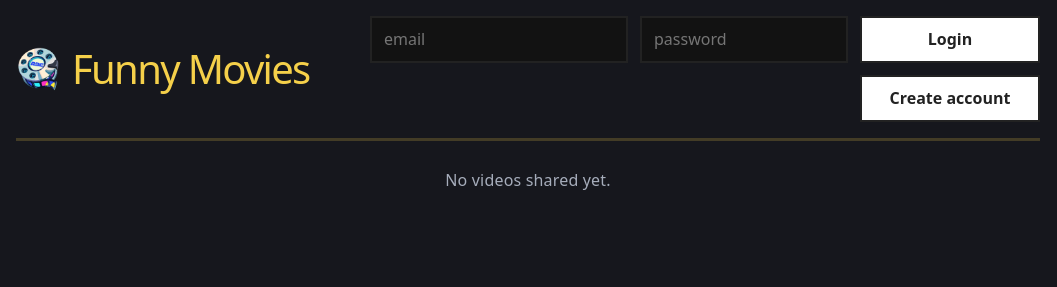
App › shows a mismatch error when register passwords do not match
Check: the text "No videos shared yet." is shown, box [445,169,611,191]
Click the button "Create account" at (950, 99), box [860,75,1040,122]
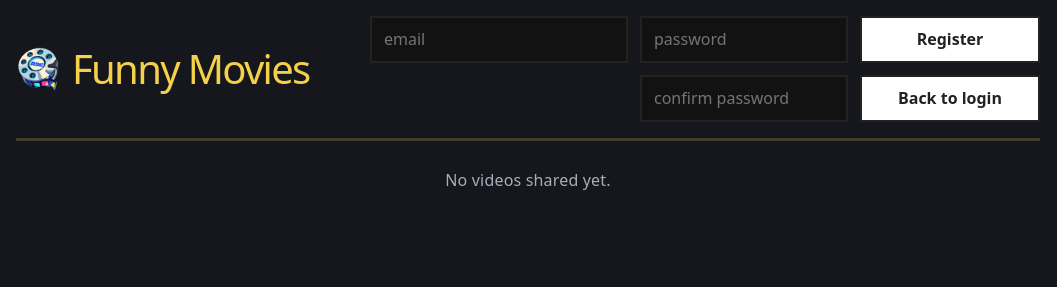
Type "movie@example.com" into the field with placeholder "email" at (499, 40), box [370,16,628,63]
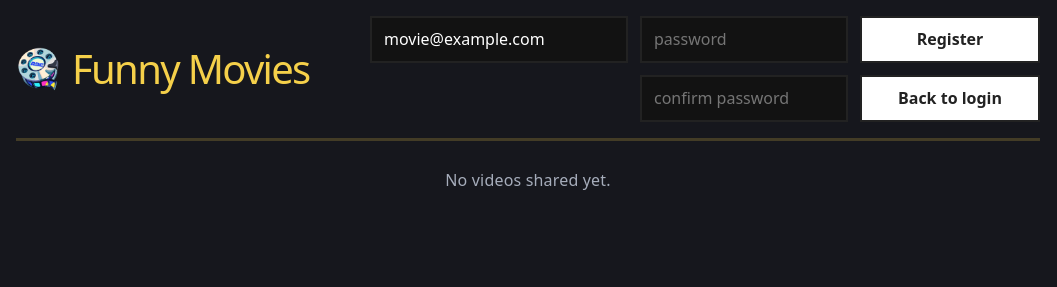
Type "password123" into the password field with placeholder "password" at (744, 40), box [640,16,848,63]
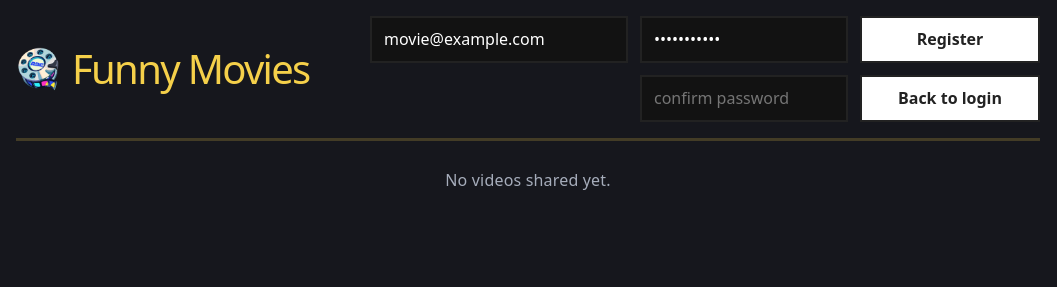
Type "different-password" into the password field with placeholder "confirm password" at (744, 99), box [640,75,848,122]
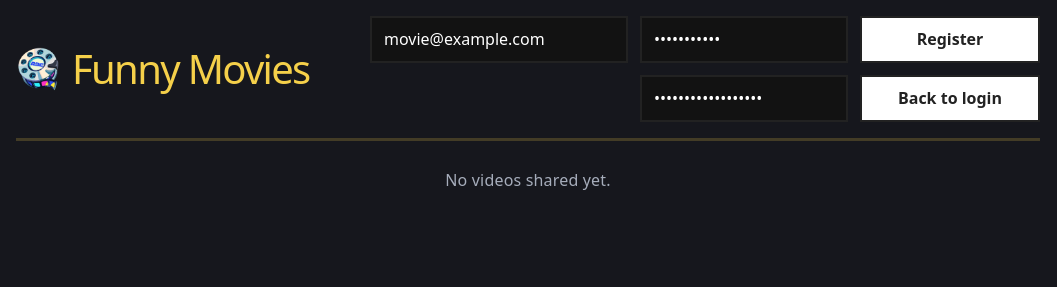
Click the button "Register" at (950, 40), box [860,16,1040,63]
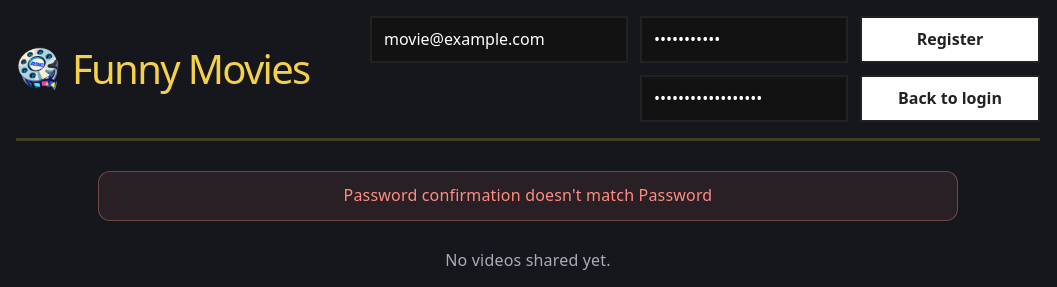
Check: the text "Password confirmation doesn't match Password" is shown, box [98,171,958,221]
